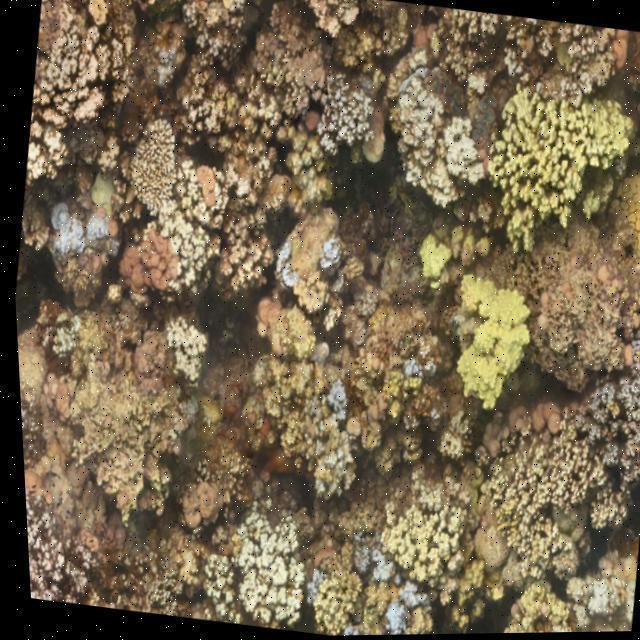Bleached Coral: (391, 89, 484, 188), (36, 194, 124, 267), (309, 369, 356, 446), (376, 574, 428, 636), (576, 576, 627, 634), (308, 244, 352, 290), (266, 244, 300, 293)
